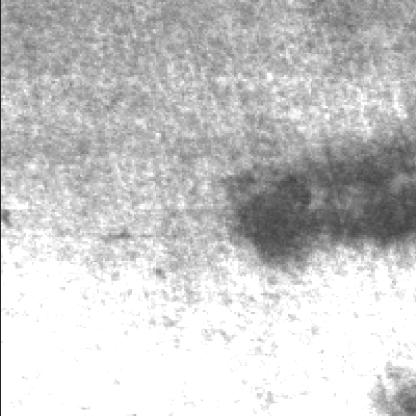patches: (229, 148, 416, 260)
